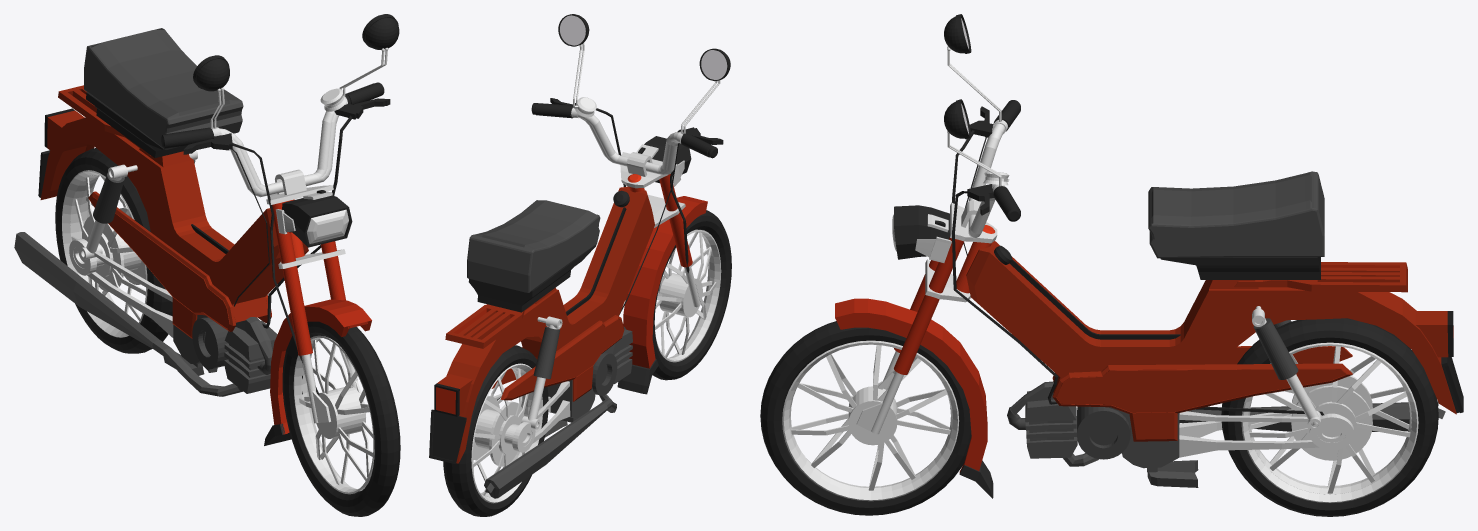
The model's file is moto-si.glb.
The picture shows the model from 3 angles, left to right: view 1: azimuth 30°, elevation 25°; view 2: azimuth 150°, elevation 25°; view 3: azimuth 270°, elevation 25°; orthographic projection. The views are drawn at different scales.
Visible parts, largest first — view 1: Ailes_Material_0; view 2: Ailes_Material_0; view 3: Ailes_Material_0.
Part boxes in pixels (<box>): Ailes_Material_0: <box>14,14,400,516</box>; Ailes_Material_0: <box>429,14,731,516</box>; Ailes_Material_0: <box>760,14,1463,516</box>.
Size of the model in its own units: 0.8101 by 1.55 by 2.17.
Materials: 1 (1 with a texture image).
